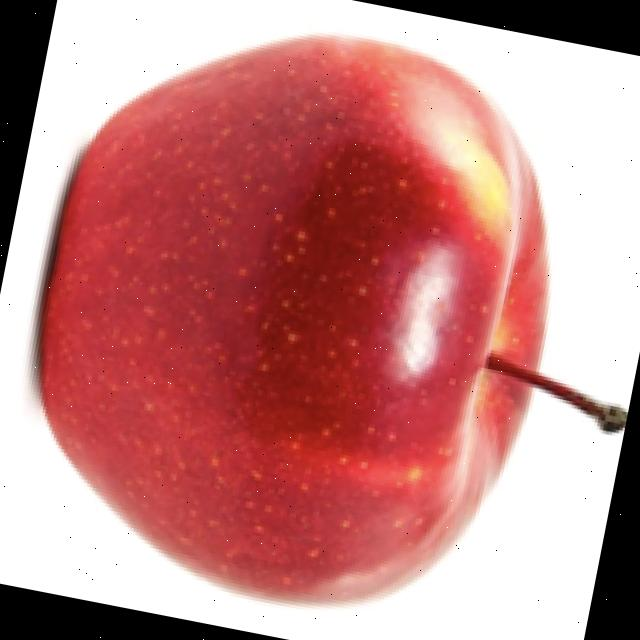apple: (21, 28, 629, 611)
